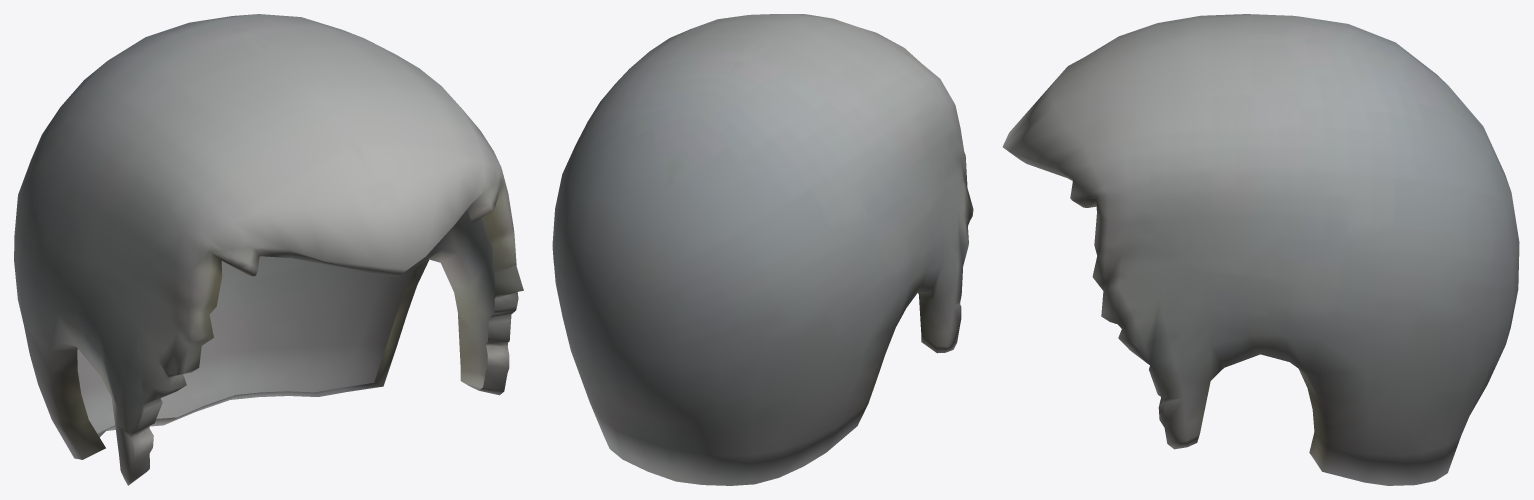
Rendered from Hair_Buzzed.glb.
3 views of the same model, side by side, from view 1: azimuth 30°, elevation 25°; view 2: azimuth 150°, elevation 25°; view 3: azimuth 270°, elevation 25° (orthographic). The views are drawn at different scales.
Visible parts, largest first — view 1: Hair_Buzzed; view 2: Hair_Buzzed; view 3: Hair_Buzzed.
Part boxes in pixels (box(x1,y1,x2,y2)): Hair_Buzzed: box(14, 14, 523, 485); Hair_Buzzed: box(552, 14, 973, 485); Hair_Buzzed: box(1002, 14, 1519, 485).
Bounding box in the file's own units: 0.1546 × 0.1694 × 0.1909.
1 material, 1 textured.
